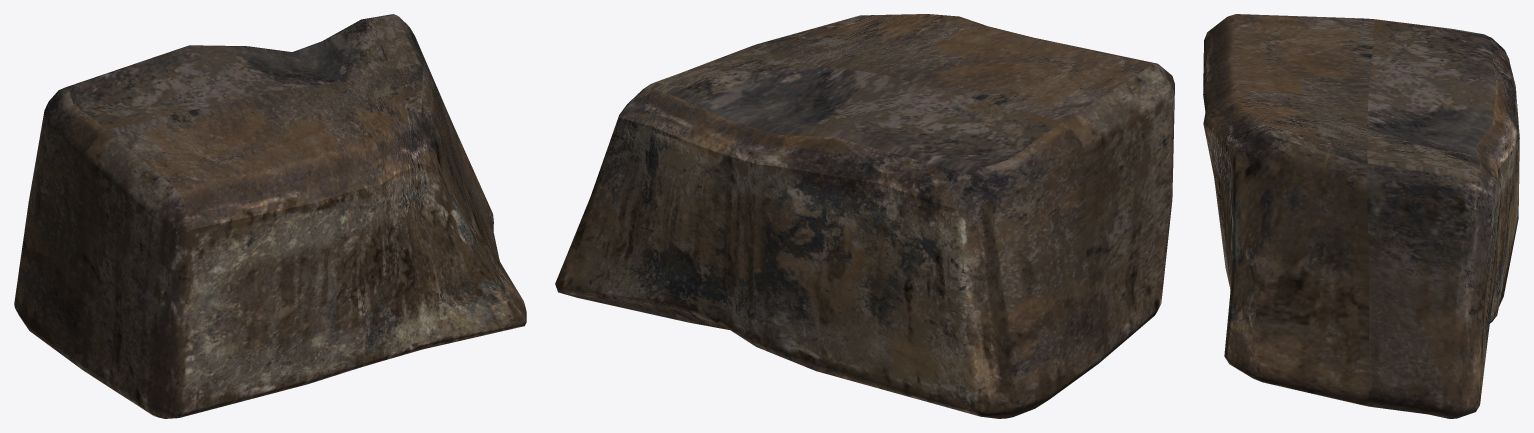
Rendered from wall_taureg_blocks01_detail_03.dae.
3 views of the same model, side by side, from view 1: azimuth 30°, elevation 25°; view 2: azimuth 150°, elevation 25°; view 3: azimuth 270°, elevation 25° (orthographic). The views are drawn at different scales.
Visible parts, largest first — view 1: wall_taureg_blocks_01_detail_03; view 2: wall_taureg_blocks_01_detail_03; view 3: wall_taureg_blocks_01_detail_03.
Part boxes in pixels (x1,y1,x2,y2): wall_taureg_blocks_01_detail_03: (14,14,526,418); wall_taureg_blocks_01_detail_03: (555,14,1174,418); wall_taureg_blocks_01_detail_03: (1203,14,1519,418).
Bounding box in the file's own units: 88.08 × 44.41 × 57.49.
